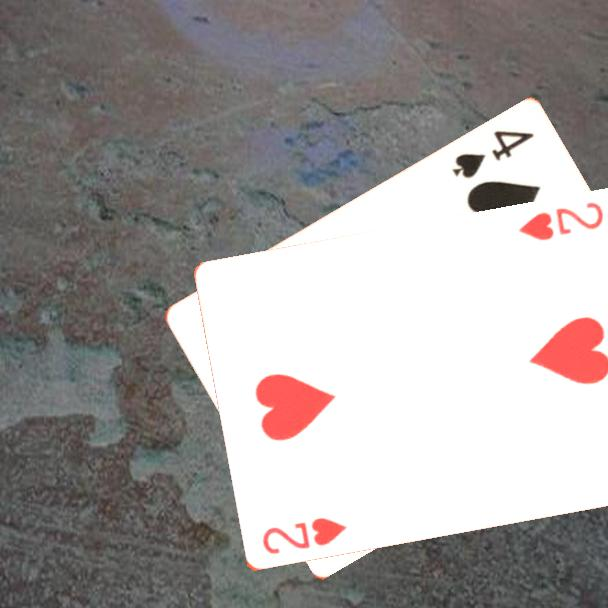h02: (515, 199, 606, 244), (258, 514, 349, 558)
s04: (448, 127, 537, 183)
